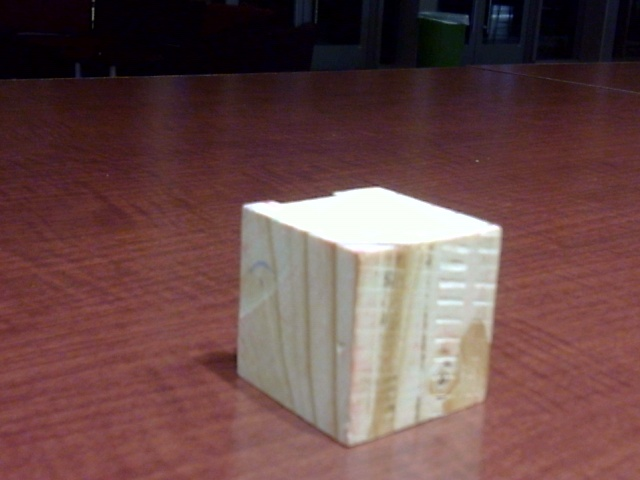NormalBlock: (272, 225, 502, 447)
